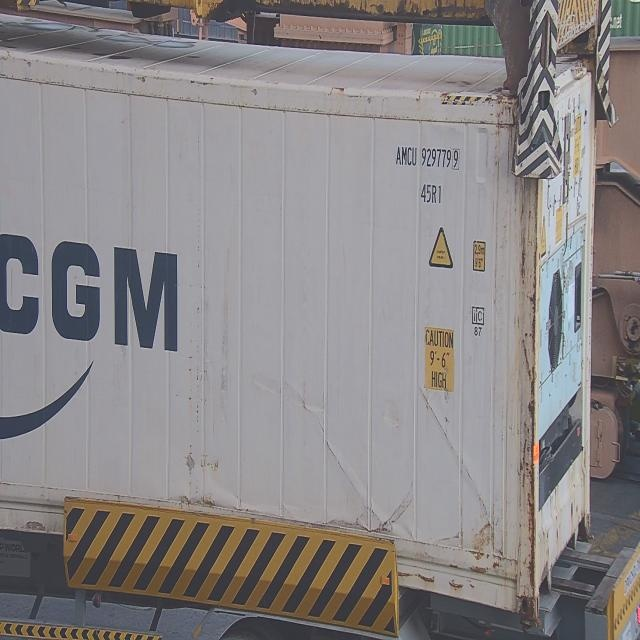Rusty: (512, 341, 543, 594)
